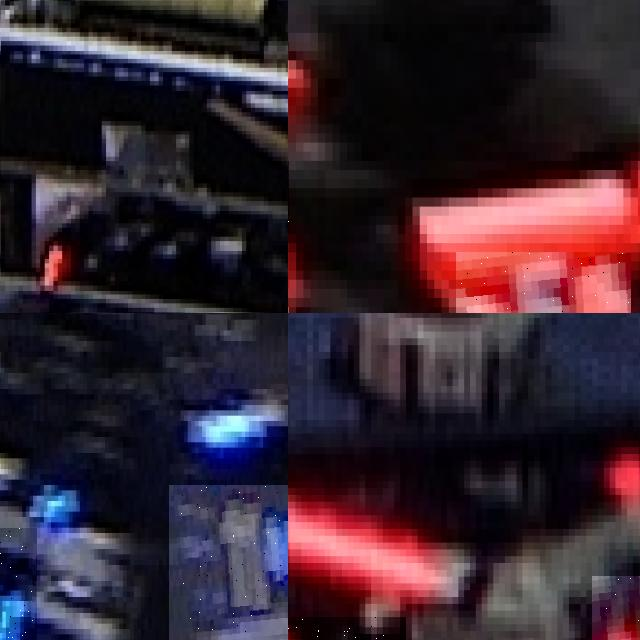B1: (169, 484, 288, 640)
R5: (456, 252, 630, 313)
